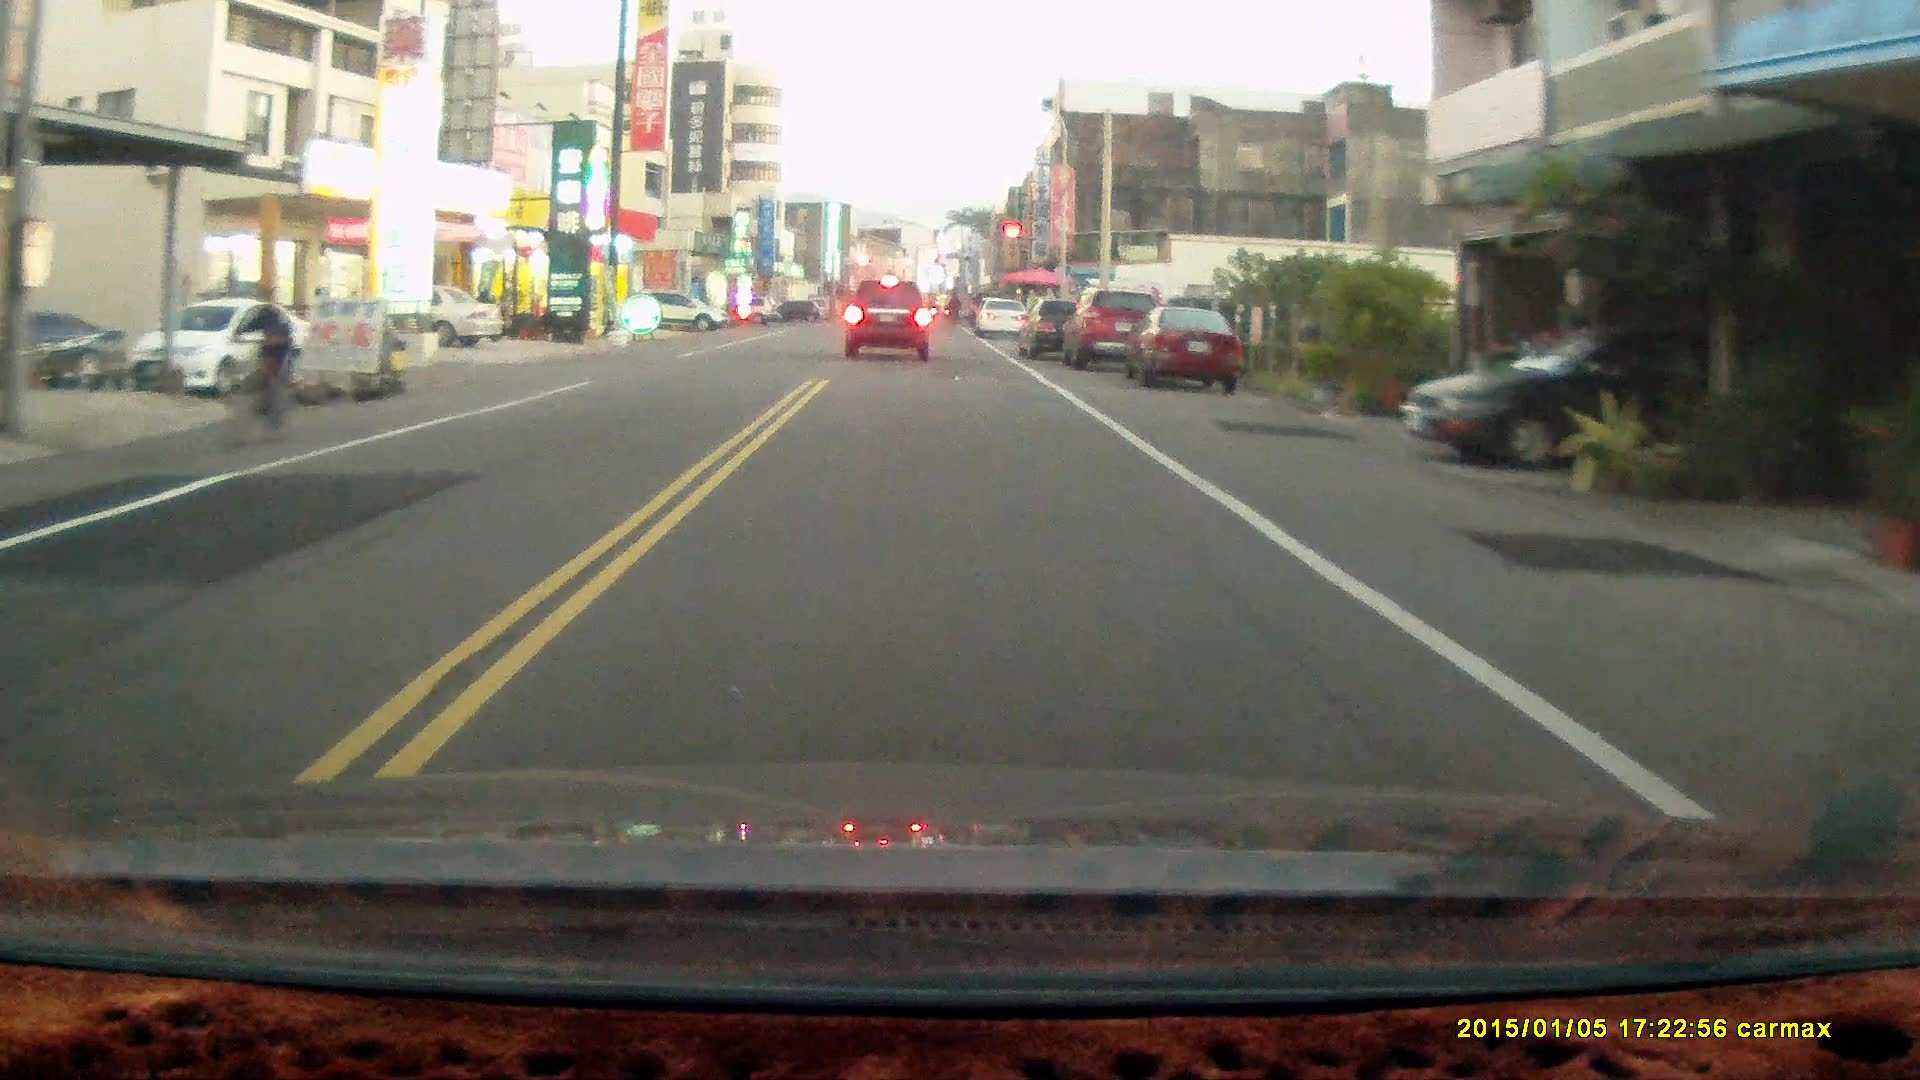rider: (218, 280, 299, 460)
vehicle: (1404, 317, 1807, 467), (132, 291, 320, 391), (331, 282, 508, 353), (1121, 303, 1251, 397), (1066, 289, 1169, 370), (844, 278, 933, 363), (640, 288, 728, 332)
